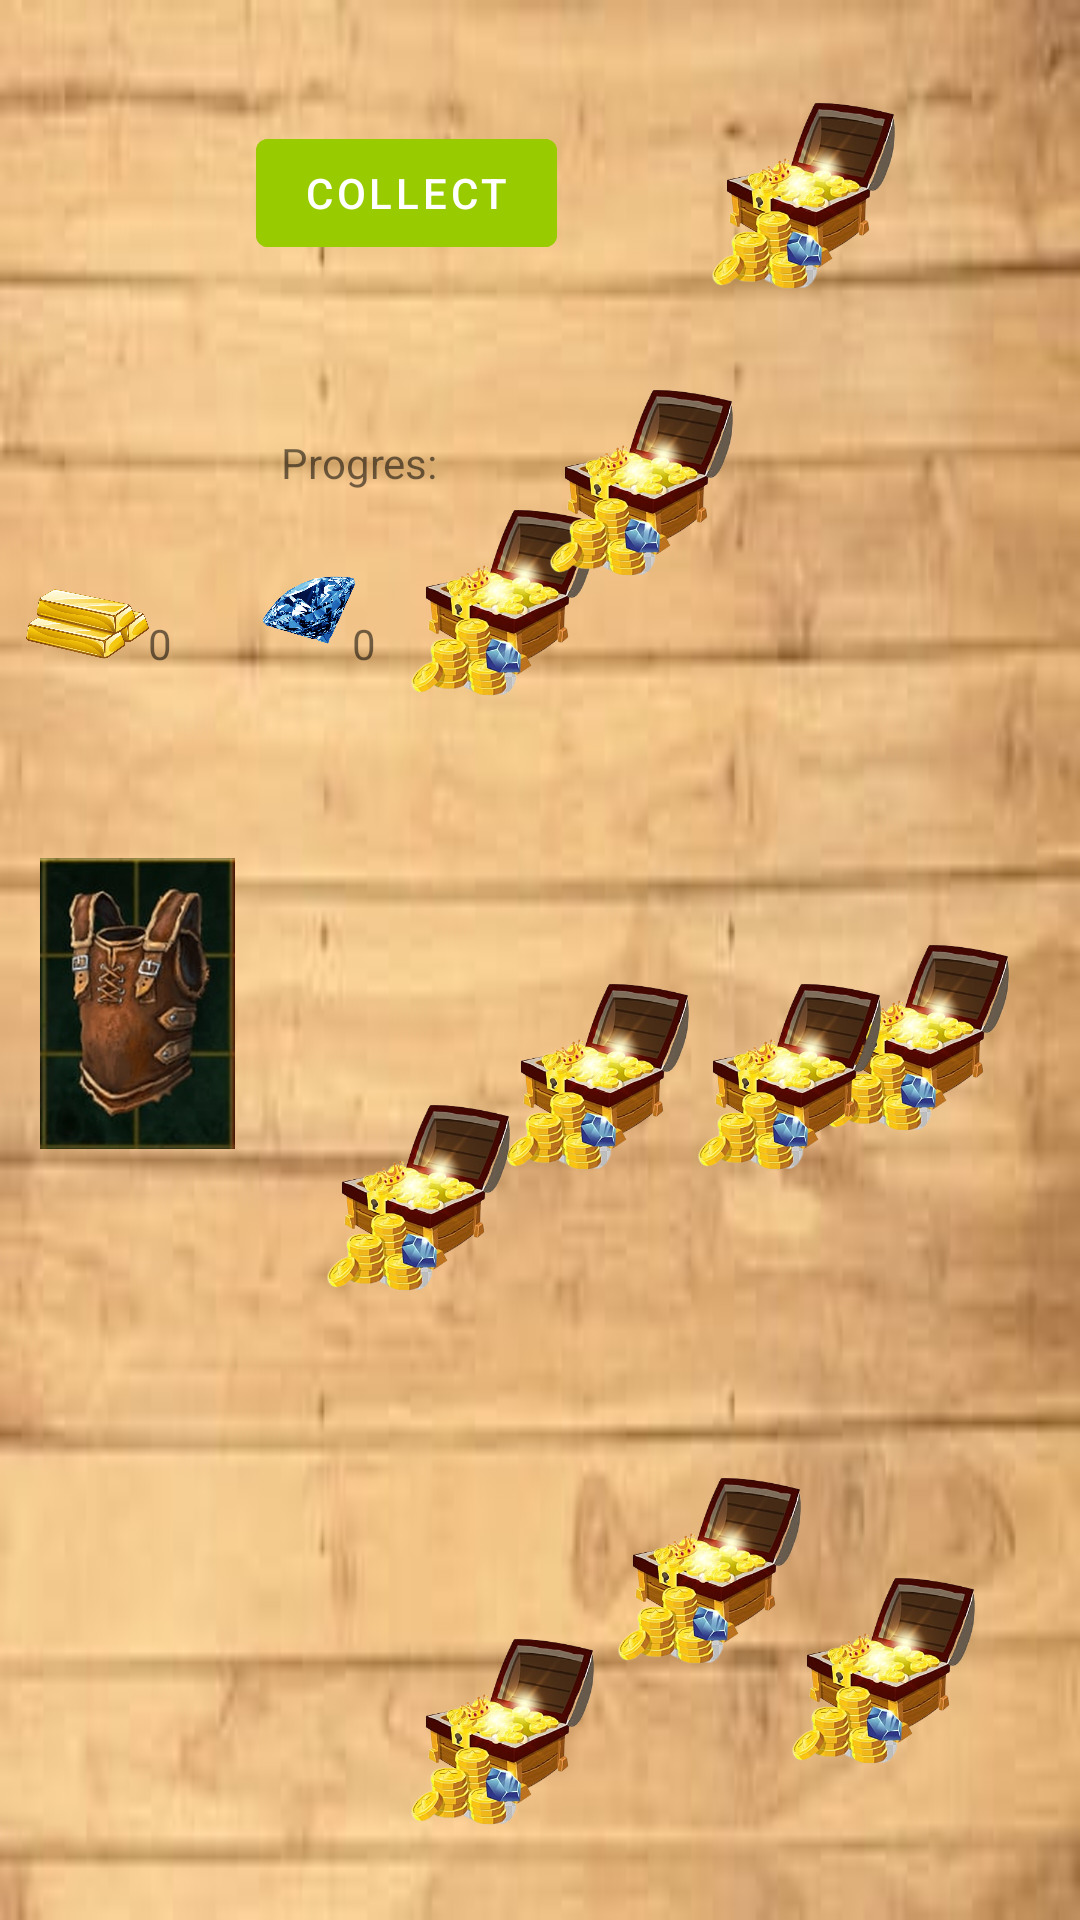

Icons on this 1080 × 1920 Android screen, each with the point to tap as (x=x, y=y):
diamondimg: (x=309, y=610)
goldimage: (x=87, y=631)
leatherarmor: (x=137, y=1003)
